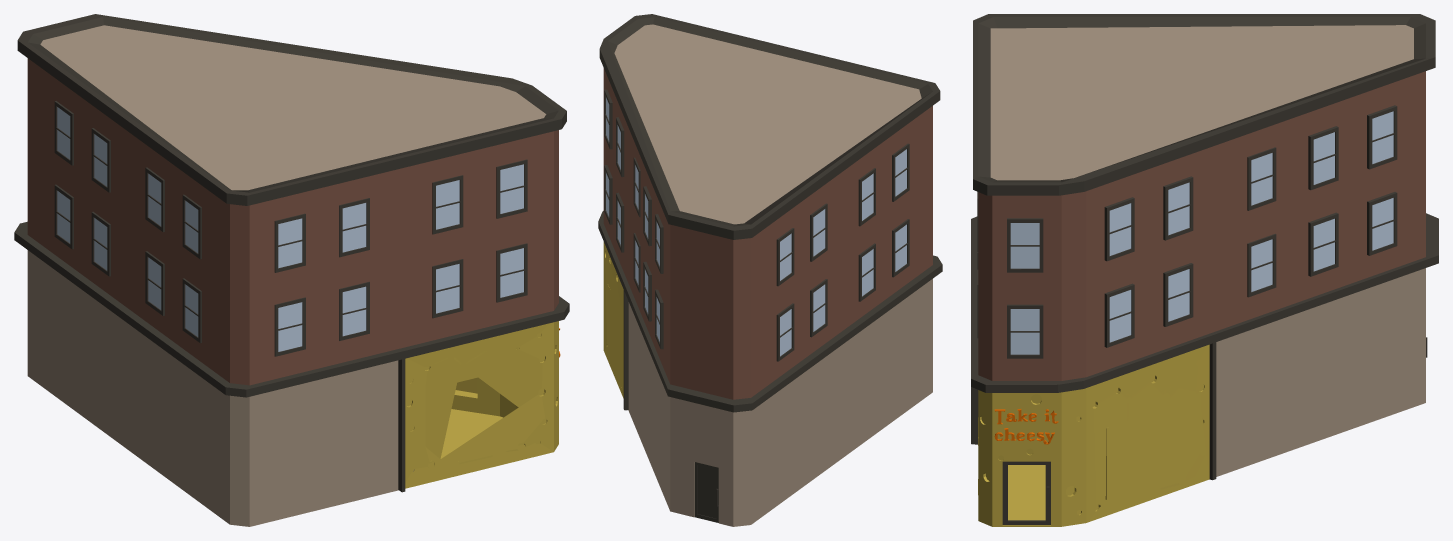
The model's file is CheeseBuildingV2.fbx.
3 views of the same model, side by side, from view 1: azimuth 30°, elevation 25°; view 2: azimuth 150°, elevation 25°; view 3: azimuth 270°, elevation 25° (orthographic). The views are drawn at different scales.
Visible parts, largest first — view 1: Cube; view 2: Cube; view 3: Cube.
Part boxes in pixels (box(x1,y1,x2,y2)): Cube: box(14, 14, 569, 526); Cube: box(598, 14, 942, 526); Cube: box(971, 14, 1438, 526).
Size of the model in its own units: 1400 by 1303 by 1600.
